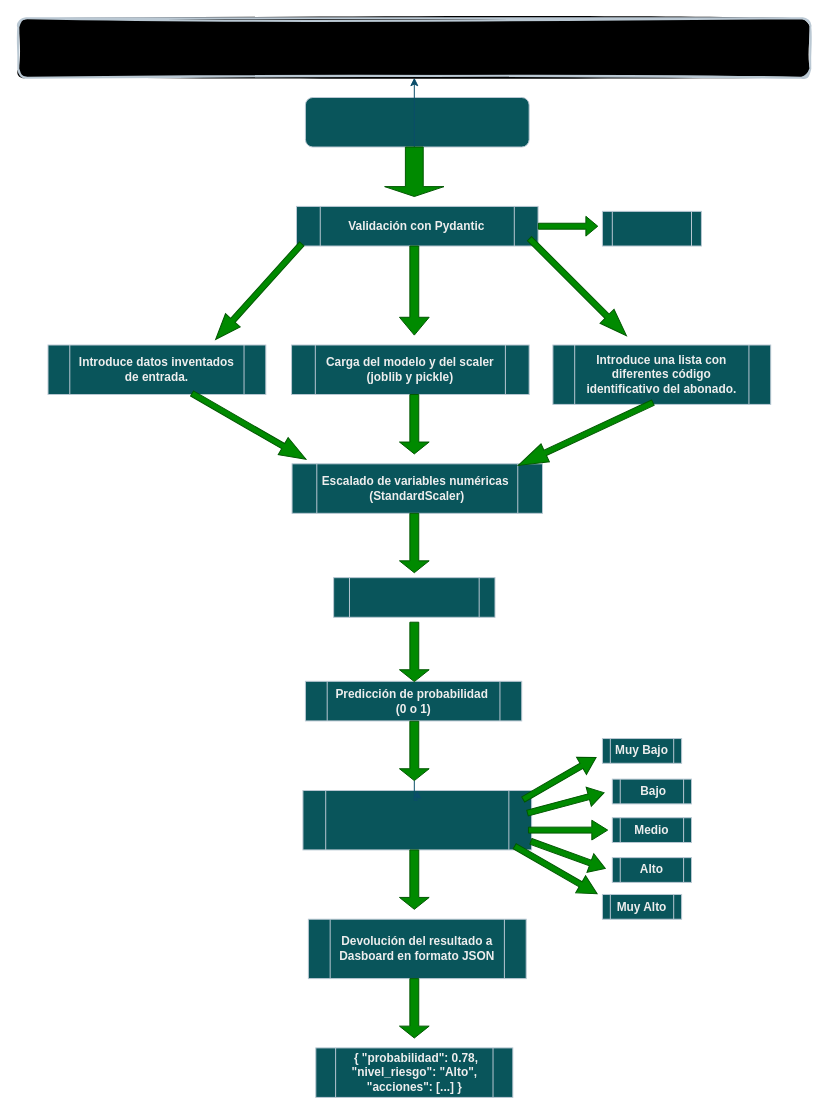
The diagram is 828 pixels wide and 1115 high, and some of its shapes have lost their labels. The box of each missing label's shape, as (x1, y1, x2, y2) in pixels:
Asignacón del nivel de riesgo: (302, 790, 532, 850)
FLUJO INTERNO DE PREDICCIOÓN EN LA API: (17, 17, 811, 78)
Input JSON desde Dashboard: (304, 97, 529, 147)
Paso al modelo de ML (Gradient Boosting): (333, 577, 495, 617)
Se revisa formato y tipos: (601, 210, 701, 246)
